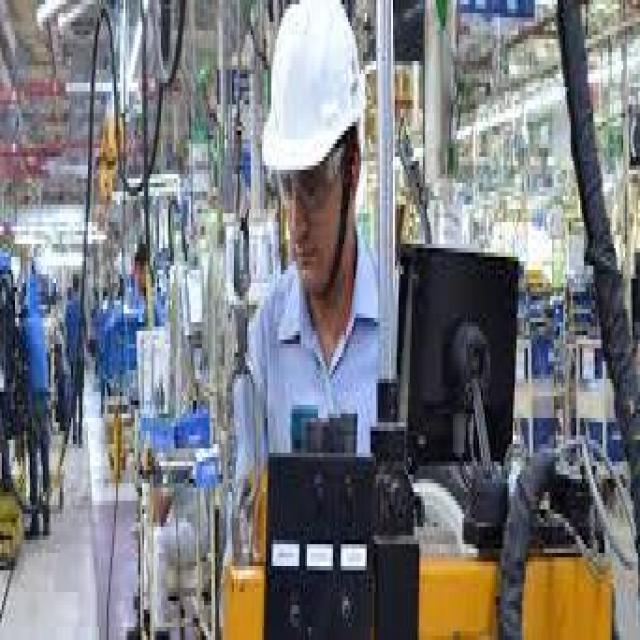Safety-Helmet: (258, 0, 371, 183)
